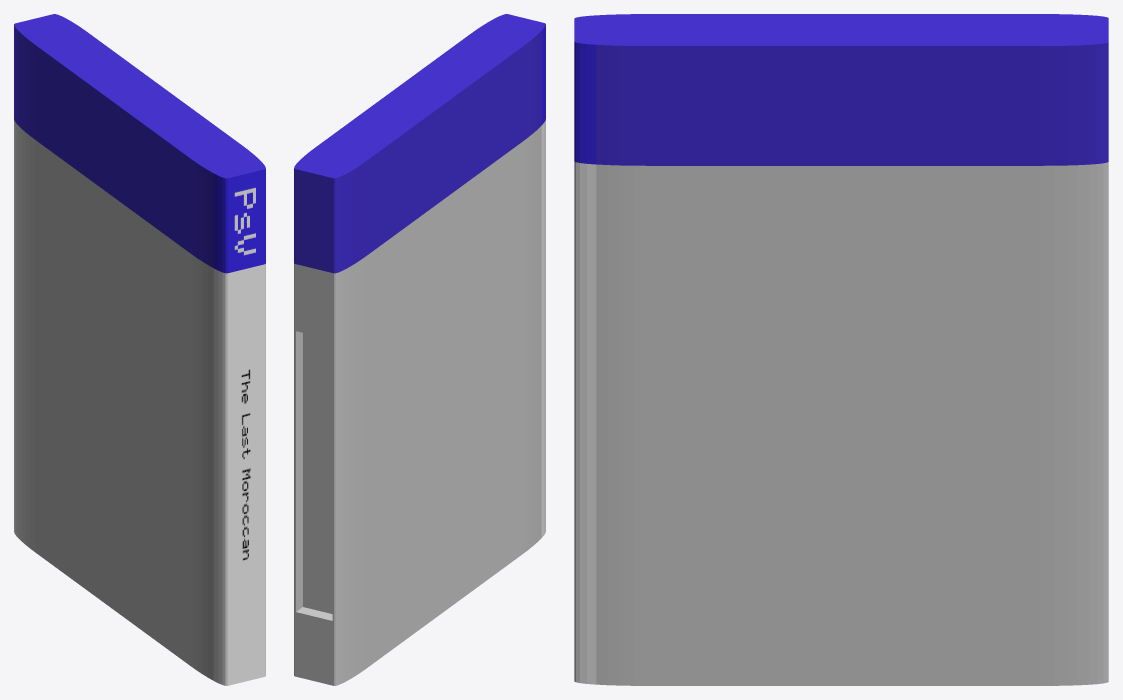
File: videogameCase1.fbx
The picture shows the model from 3 angles, left to right: view 1: azimuth 30°, elevation 25°; view 2: azimuth 150°, elevation 25°; view 3: azimuth 270°, elevation 25°; orthographic projection. The views are drawn at different scales.
Visible parts, largest first — view 1: VideogameCase; view 2: VideogameCase; view 3: VideogameCase.
Part boxes in pixels (<box>): VideogameCase: <box>14,14,265,685</box>; VideogameCase: <box>294,14,545,685</box>; VideogameCase: <box>574,14,1108,685</box>.
Size of the model in its own units: 18.19 by 169 by 128.
Materials: 4 (2 with a texture image).
